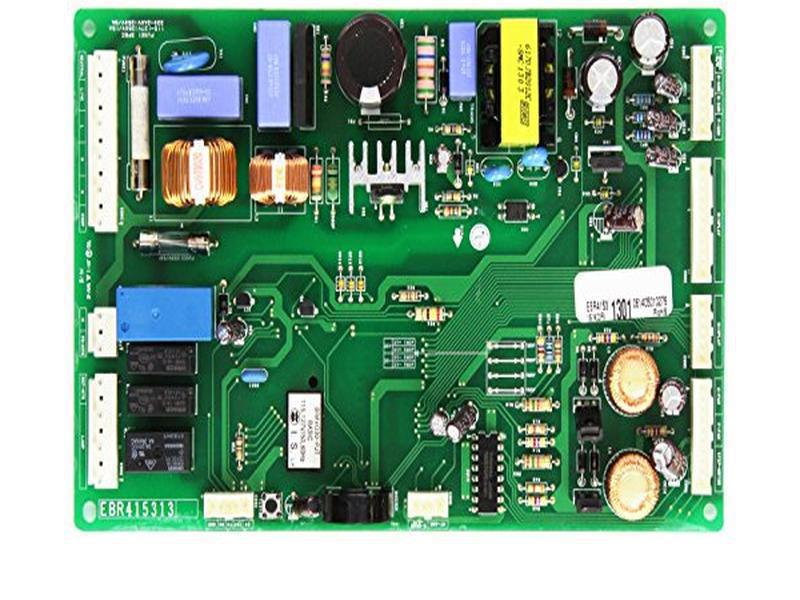circuit_board: (63, 9, 733, 536)
